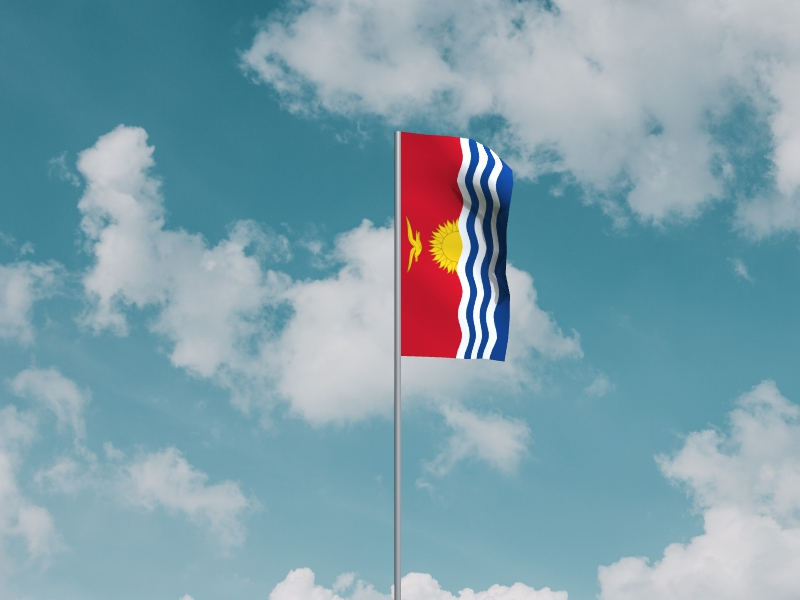ki: (402, 132, 515, 363)
